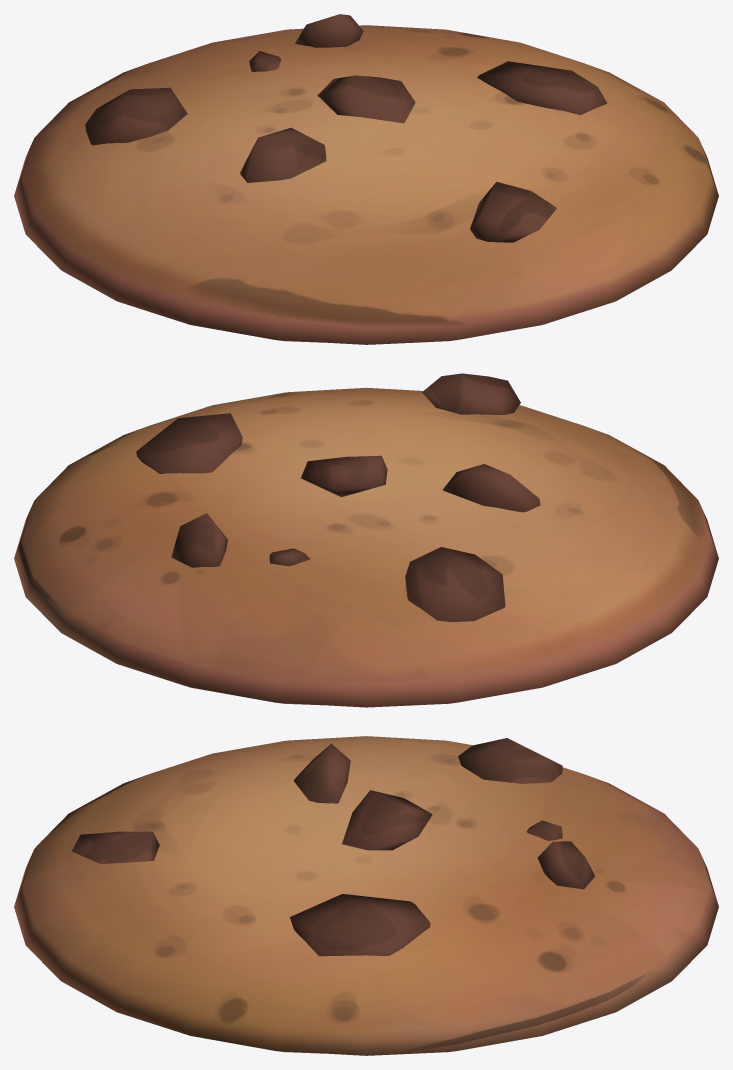
Rendered from Biscuit_03.fbx.
3 renders of one model, top to bottom at view 1: azimuth 30°, elevation 25°; view 2: azimuth 150°, elevation 25°; view 3: azimuth 270°, elevation 25°, orthographic.
Parts seen in each view (by area): view 1: Cookie.020; view 2: Cookie.020; view 3: Cookie.020.
Part boxes in pixels (left/top/right/bottom): Cookie.020: left=14, top=14, right=718, bottom=344; Cookie.020: left=14, top=373, right=718, bottom=707; Cookie.020: left=14, top=736, right=718, bottom=1055.
Size of the model in its own units: 8761 by 1808 by 8761.
